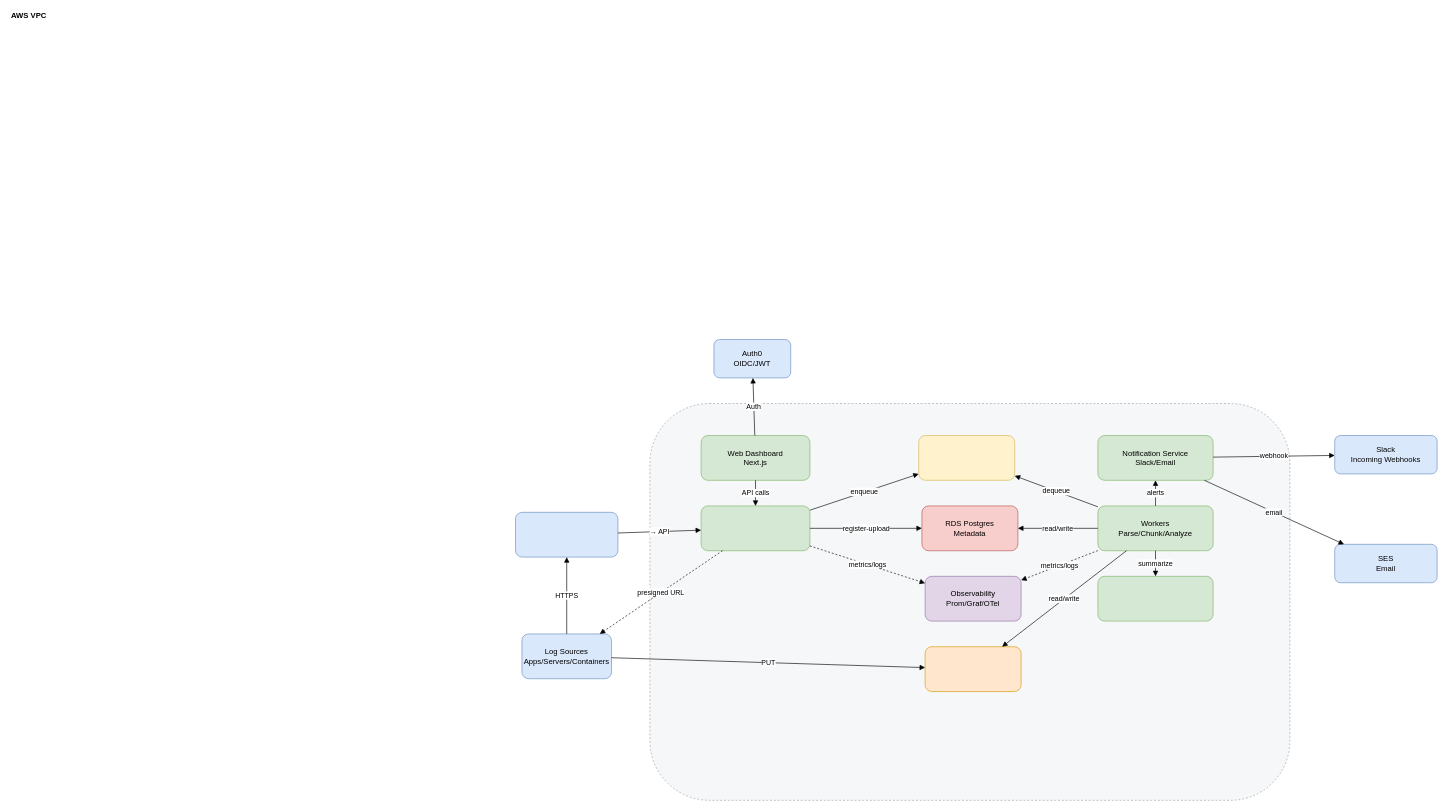
The diagram is 1448 pixels wide and 812 high, and some of its shapes have lost their labels. The shapes that lost their labels are listed below. From the top down, each one's centre as x and y in pixels, then its label:
At [966,457]: "SQS Work Queue".
At [566,534]: "Edge & Ingress CloudFront + ALB + WAF".
At [755,528]: "API Service FastAPI".
At [1155,598]: "AI Service LLM + Cache".
At [972,669]: "S3 Raw Logs".
